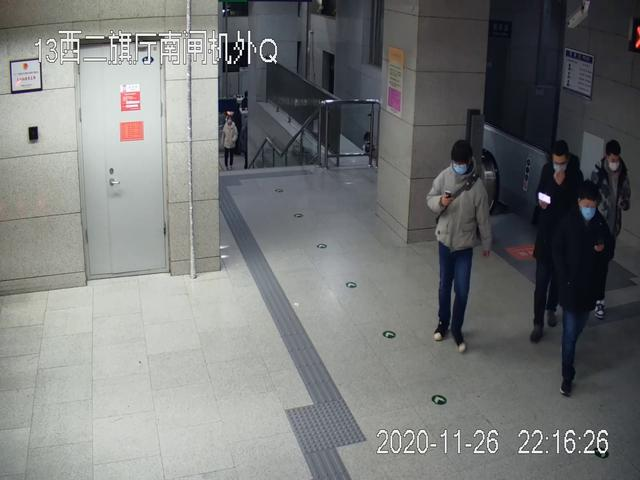person: (426, 139, 491, 353), (556, 179, 611, 397), (529, 138, 581, 342), (590, 139, 630, 320), (219, 116, 240, 170)
